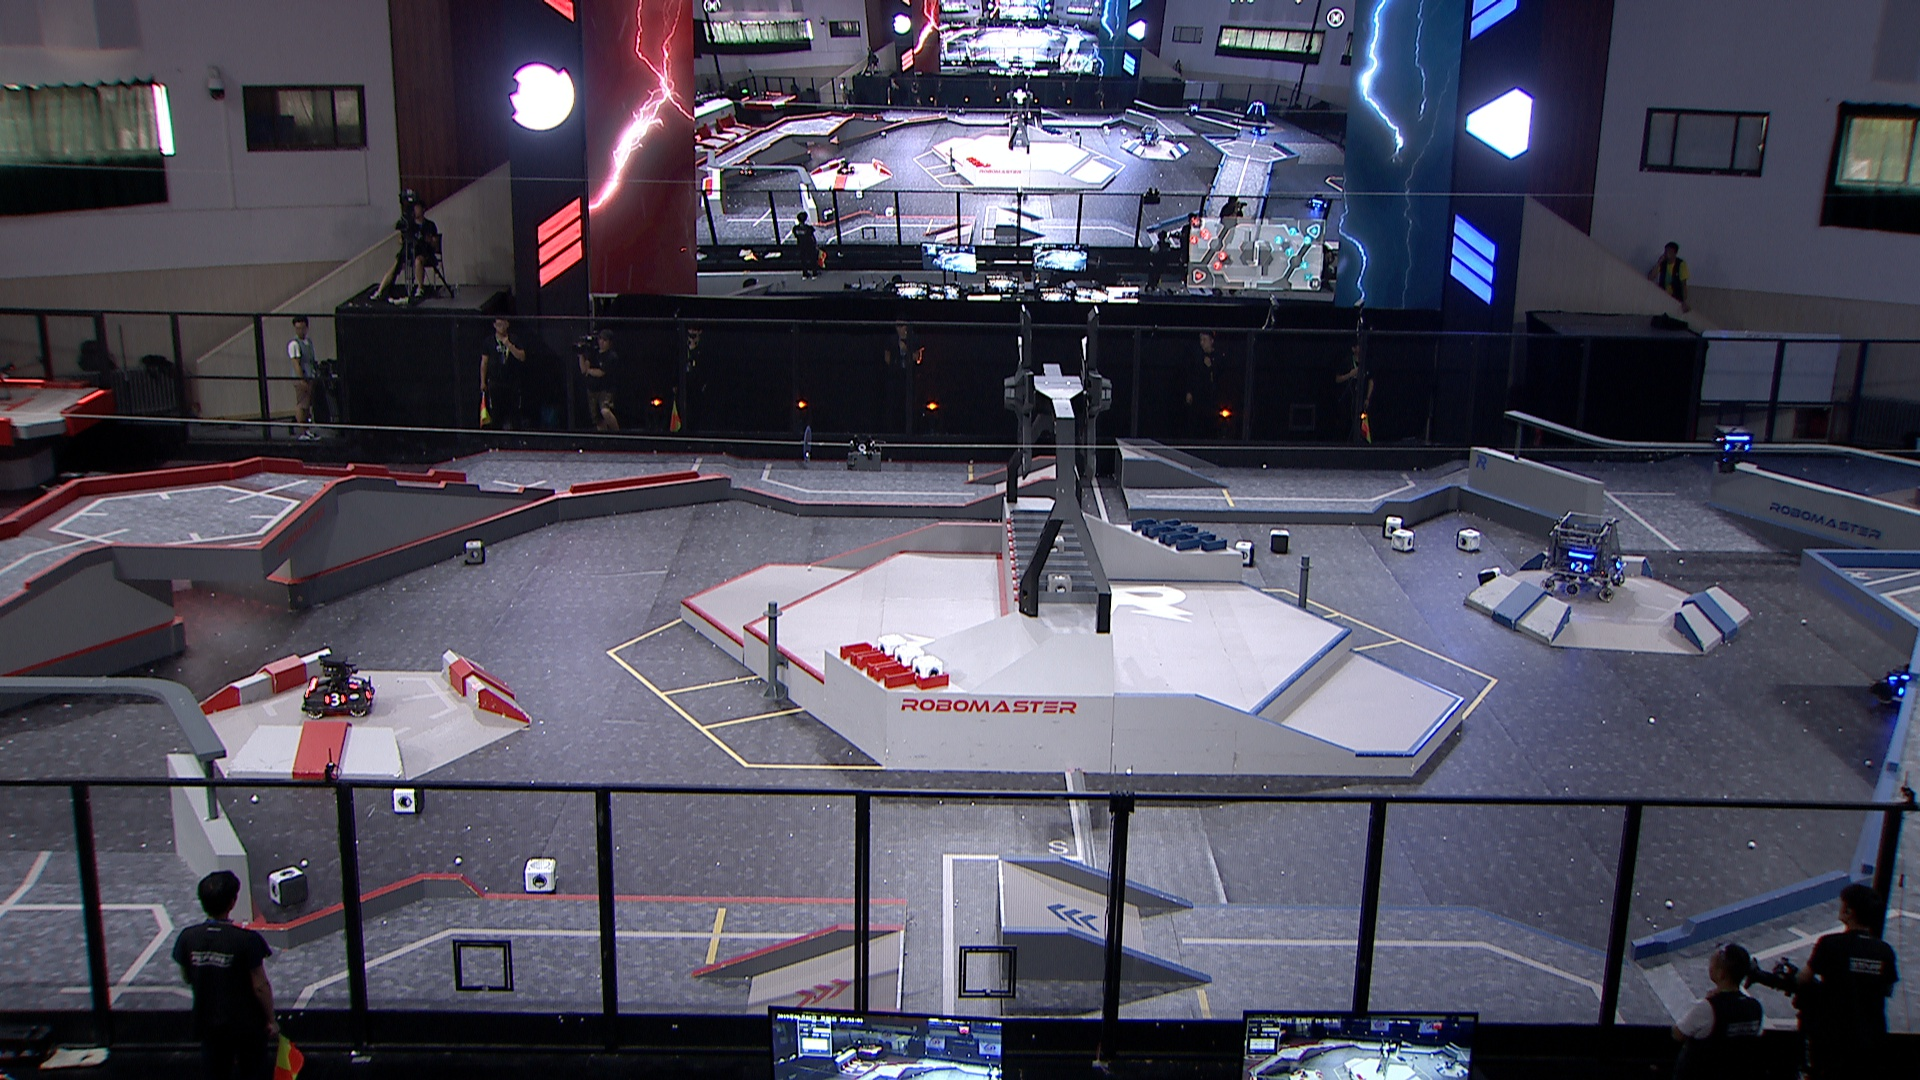armor: (320, 692, 351, 709), (1722, 440, 1753, 455), (347, 674, 365, 688), (1571, 560, 1593, 572)
car: (1536, 509, 1629, 603), (297, 651, 375, 719), (1871, 650, 1920, 719)
ignore: (1305, 191, 1332, 214), (1242, 102, 1269, 124), (1135, 125, 1162, 146), (835, 157, 858, 175), (737, 158, 756, 178), (1250, 124, 1269, 138)
watcher: (1708, 423, 1759, 473)
